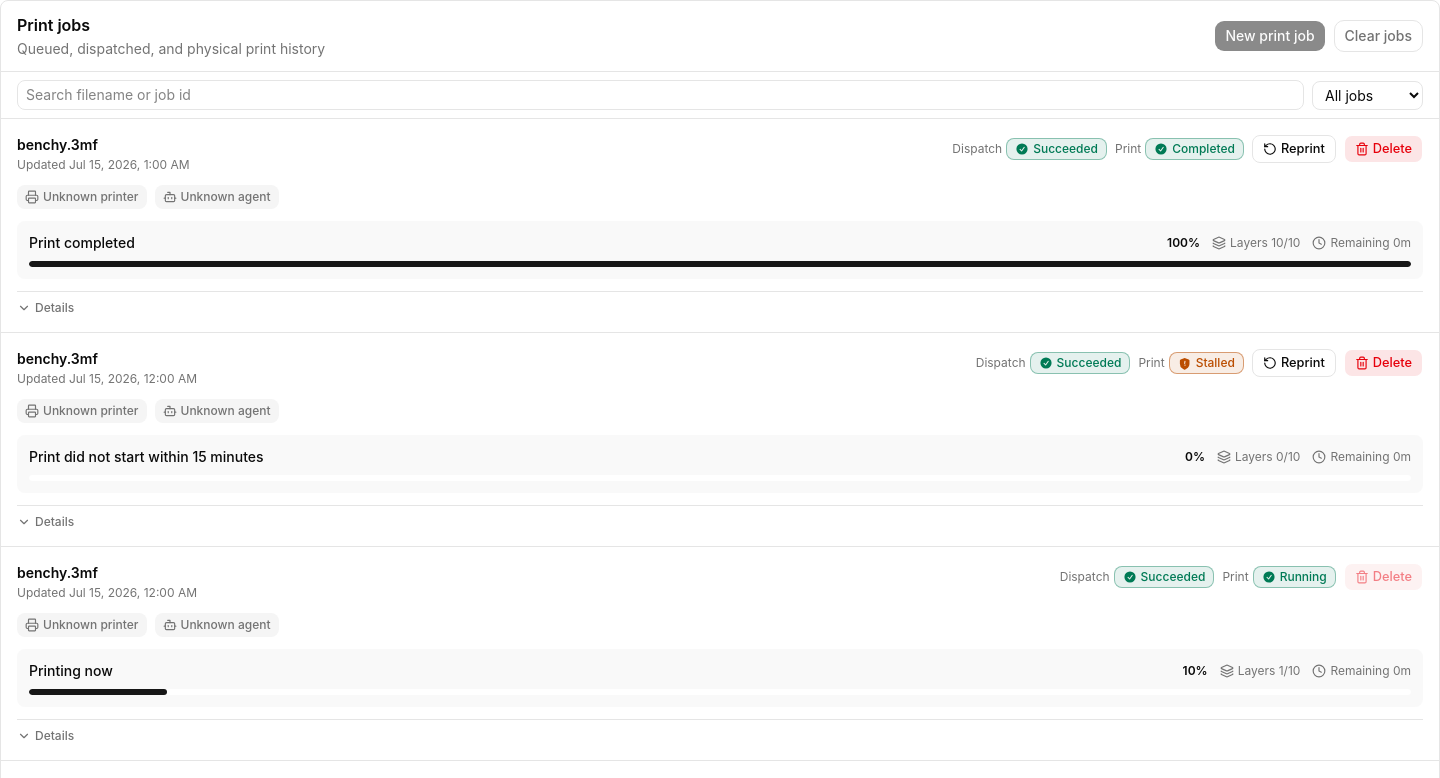
Test case: JobHistory actions › counts terminal and stalled waiting jobs while retaining other active jobs
Click the button "Clear jobs": (1378, 36) [1334, 20, 1423, 52]
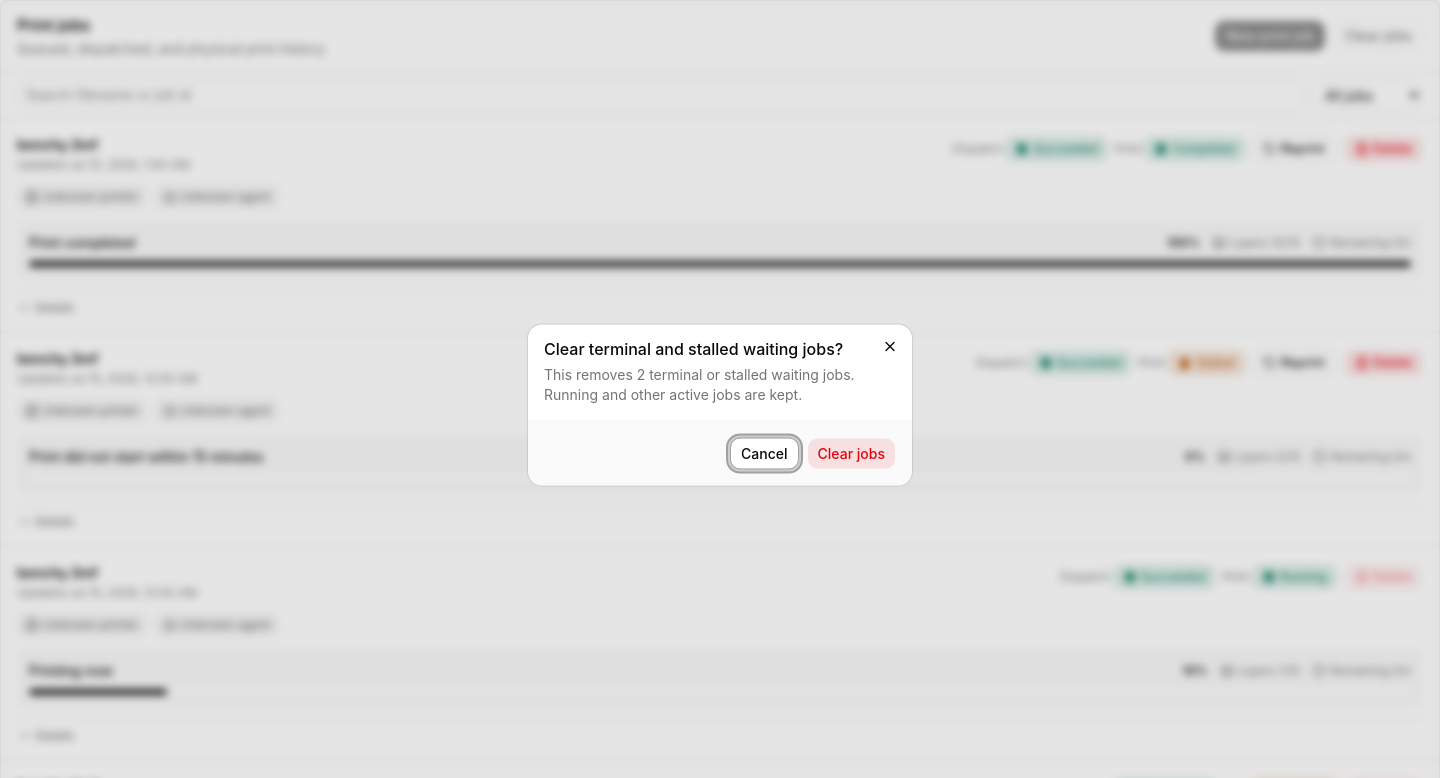
Result: the text "This removes 2 terminal or stalled waiting jobs. Running and other active jobs are kept." is shown at [544, 366, 855, 402]
